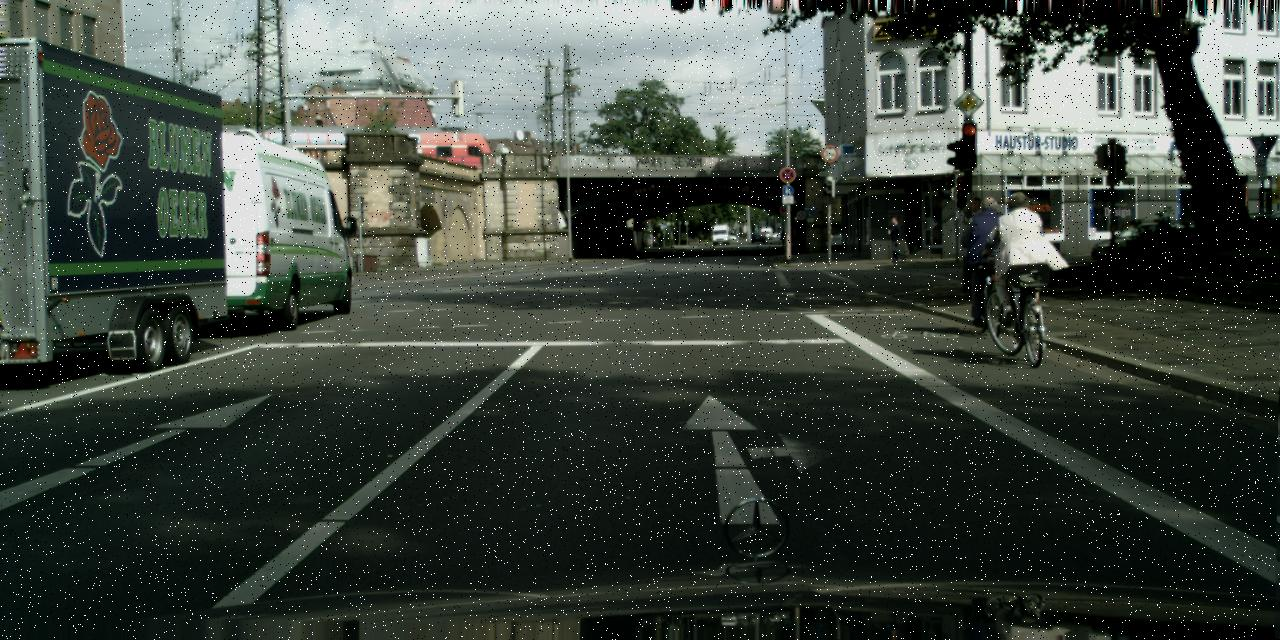ped: (991, 191, 1050, 335), (965, 197, 1013, 314), (960, 196, 999, 292), (887, 216, 905, 262), (657, 232, 662, 245), (762, 234, 766, 244)
